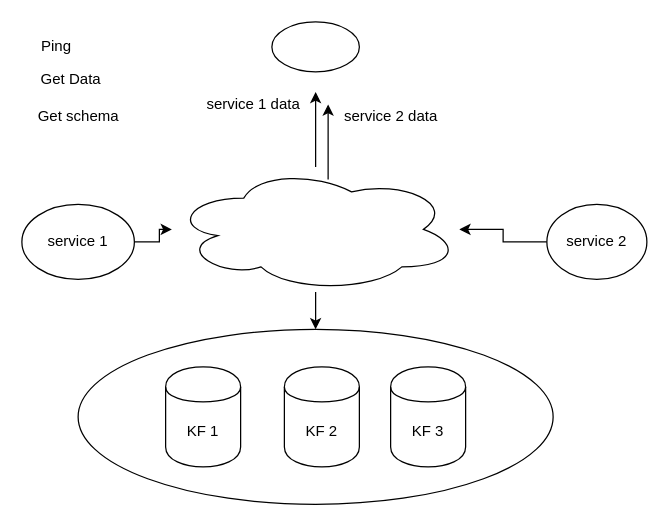
Some shapes in this 669 by 526 pixel diagram are drawn without their labels. Here are the shapes that lost their labels. From the top down, the centre of each, then its label:
(x=315, y=46): ODPS
(x=315, y=229): data bus (go front for kafka)
